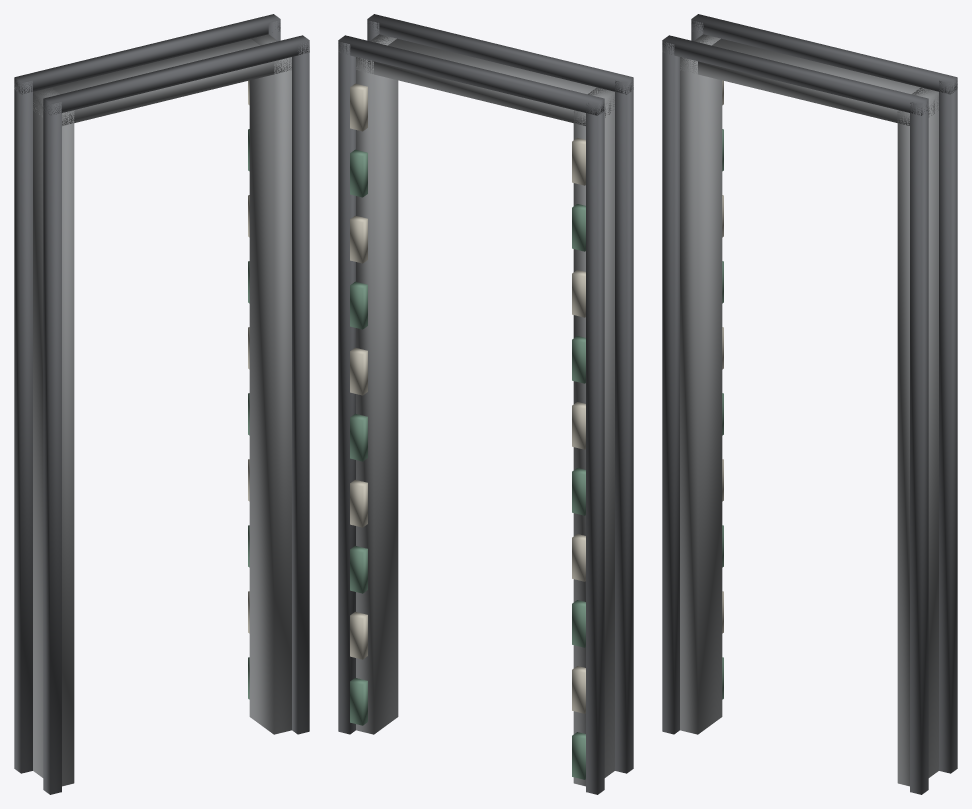
The model's file is doorway_tile_return_w76_h240_d16.glb.
3 views of the same model, side by side, from view 1: azimuth 30°, elevation 25°; view 2: azimuth 150°, elevation 25°; view 3: azimuth 330°, elevation 25° (orthographic).
Parts seen in each view (by area): view 1: world; view 2: world; view 3: world.
Boxes of the visible parts, <box> form: world: <box>14,14,309,794</box>; world: <box>338,14,633,794</box>; world: <box>662,14,957,794</box>.
Size of the model in its own units: 0.9868 by 2.51 by 0.2407.
